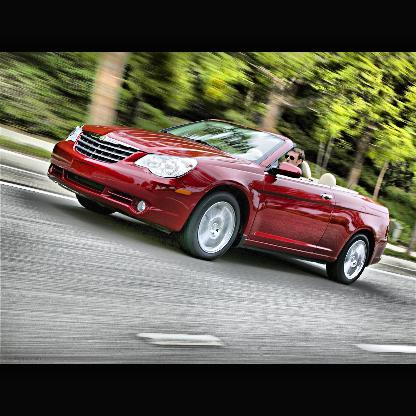Chrysler Sebring Convertible 2010: (48, 119, 391, 285)
